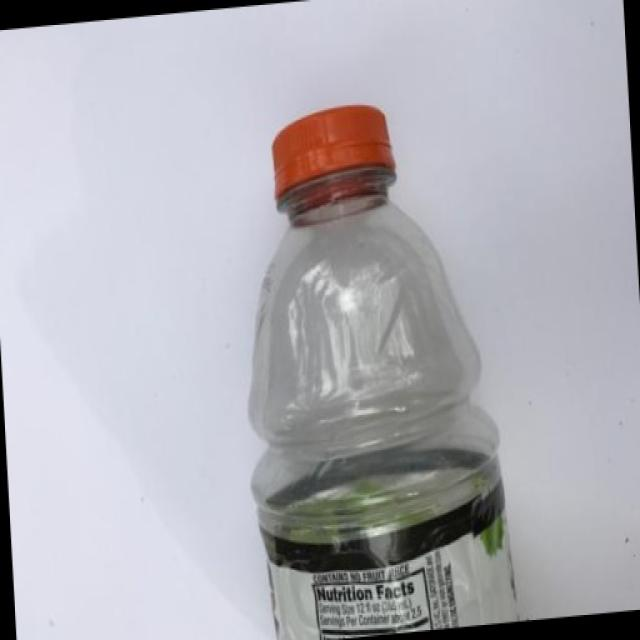plastico: (230, 94, 588, 634)
